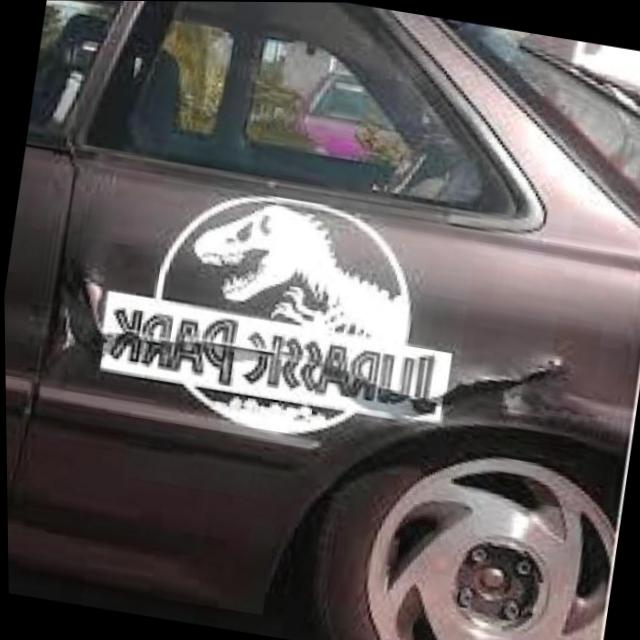Car-Damage: (37, 255, 585, 447)
